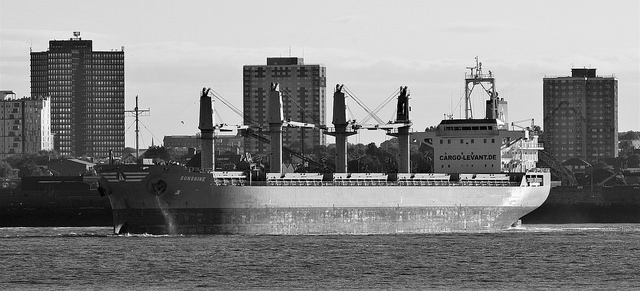bulk carrier: (98, 69, 551, 227)
